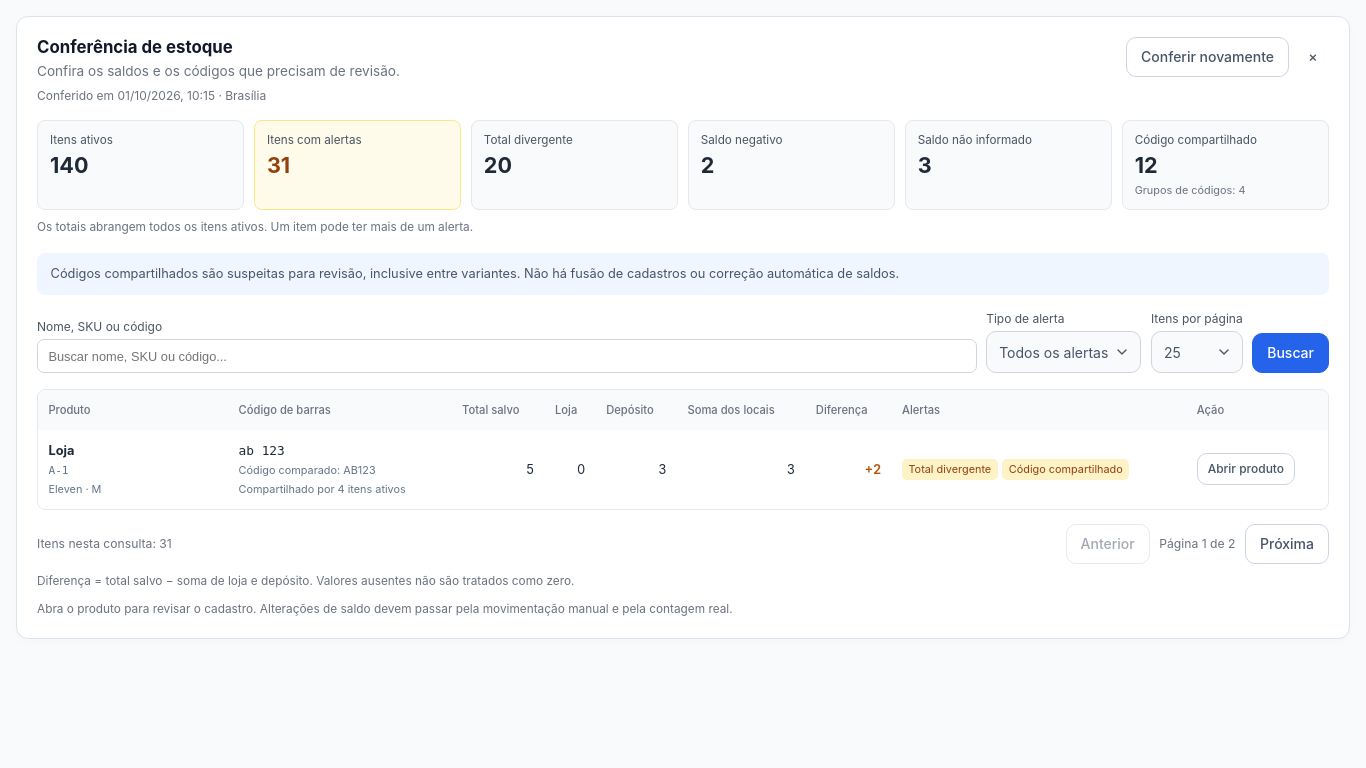
Test case: Inventory diagnostics › shows recoverable failures, discards old rows and handles a late rejection without hiding newer data
Expected: the table is shown, [38,430,1328,509]
Click the button "Conferir novamente".
click(1208, 57)  # box [1126,37,1289,77]
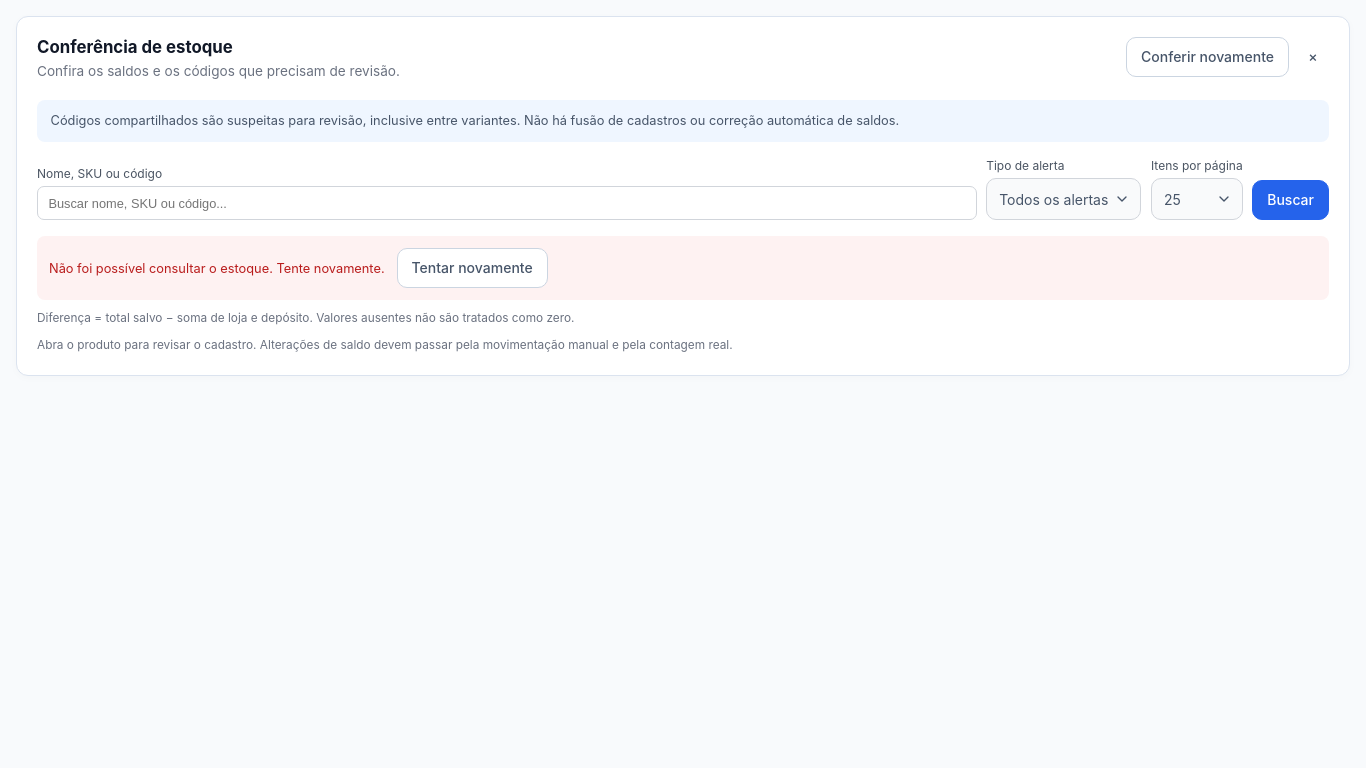
Now the message "Não foi possível consultar o estoque. Tente novamente. Tentar novamente" is shown, box [37,236,1329,300]
Click the button "Tentar novamente".
click(472, 268)  # box [397,248,548,288]
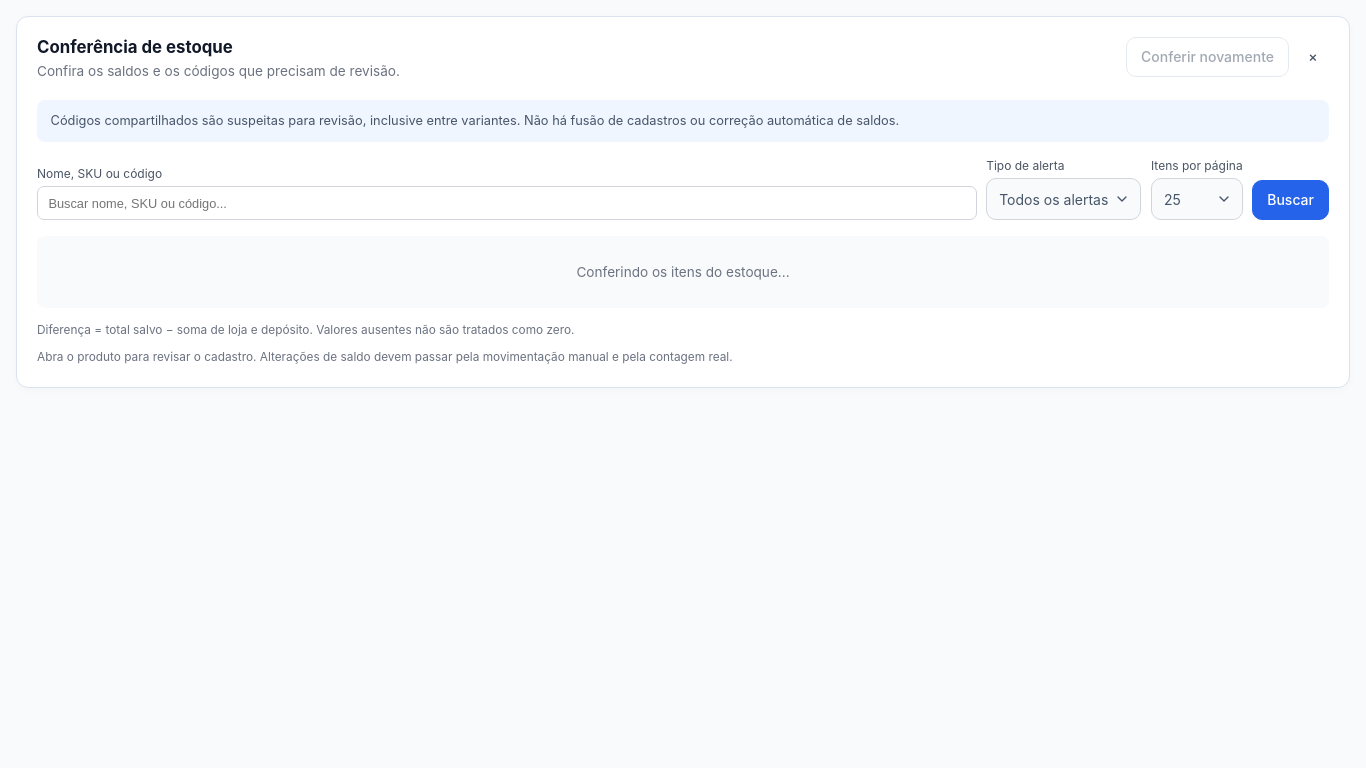
Click the button "Todos os alertas".
click(1064, 199)  # box [987,179,1140,219]
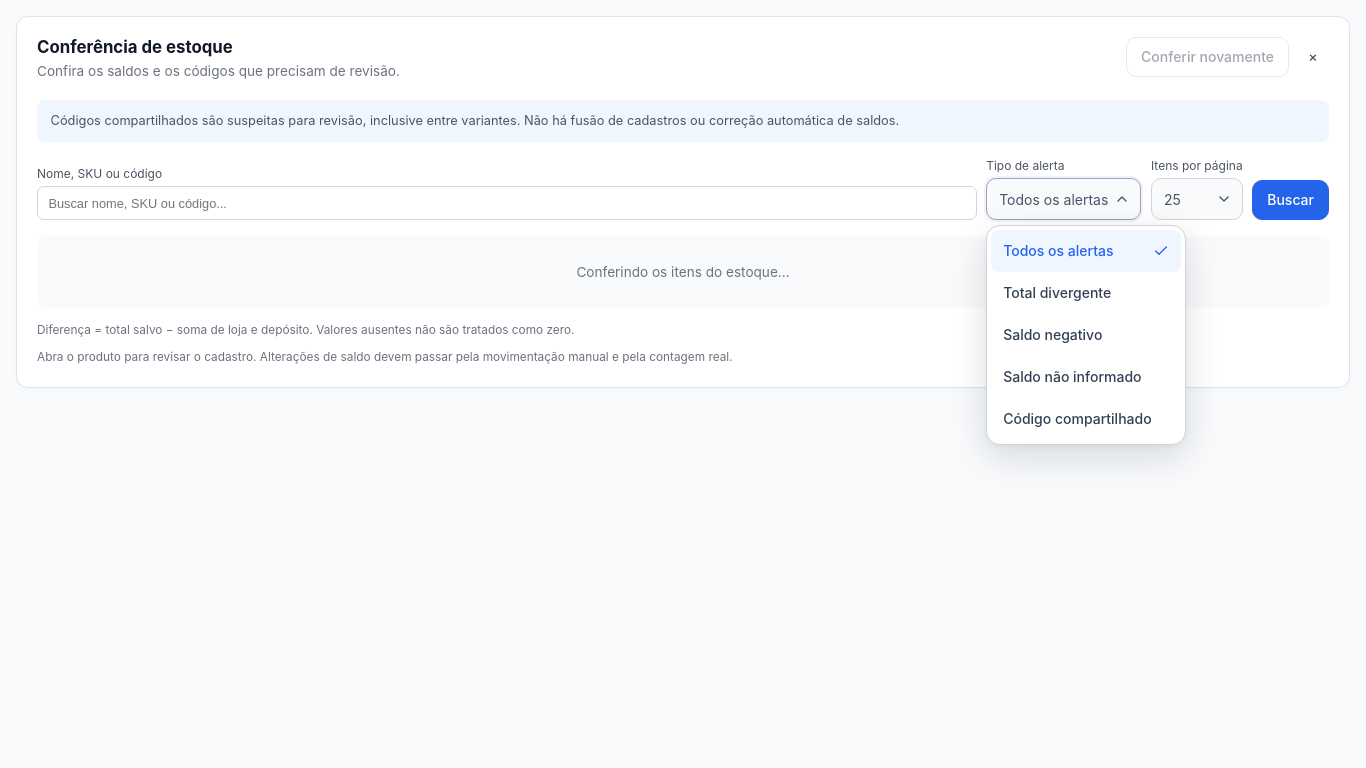
Click the option "Total divergente".
click(1086, 293)  # box [991,272,1181,314]
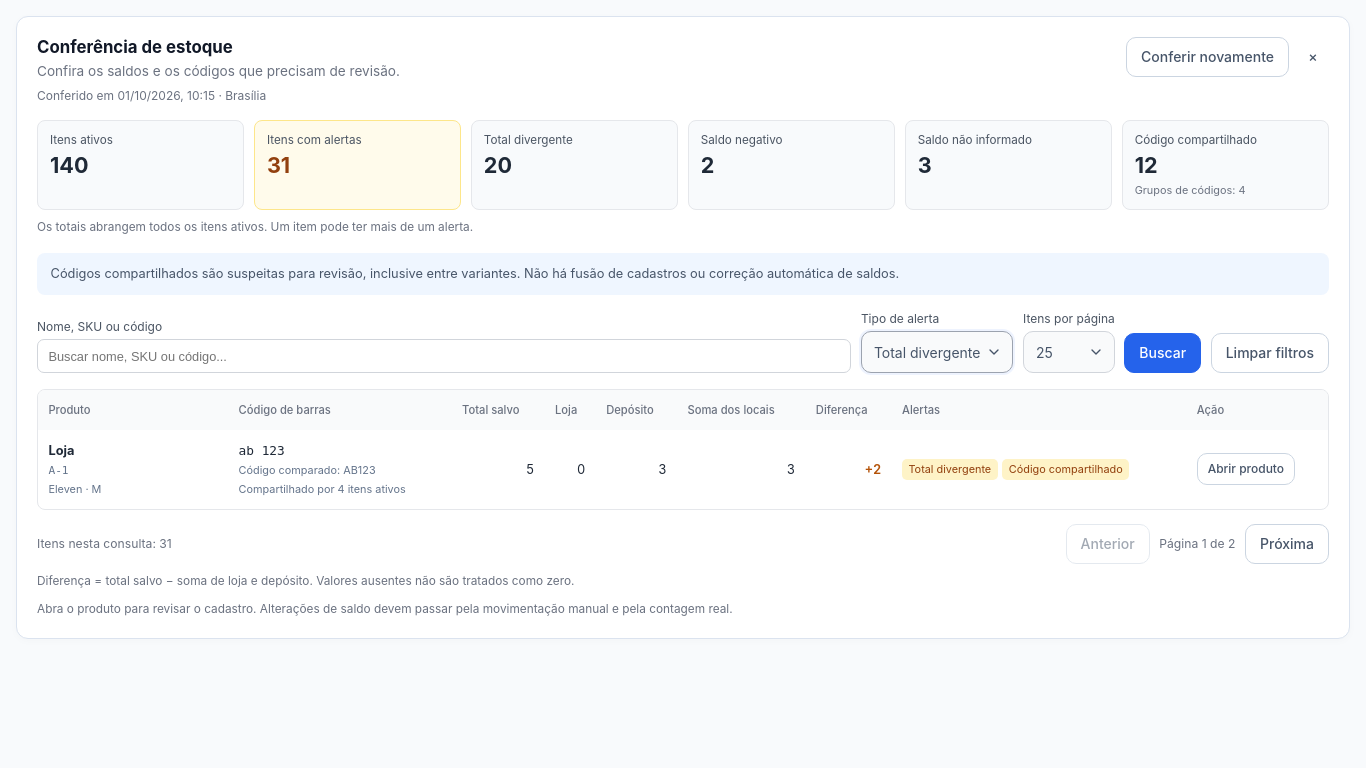
Expected: the message "Não foi possível consultar o estoque. Tente novamente. Tentar novamente" is not shown
Now the table is shown, box [38,430,1328,509]
